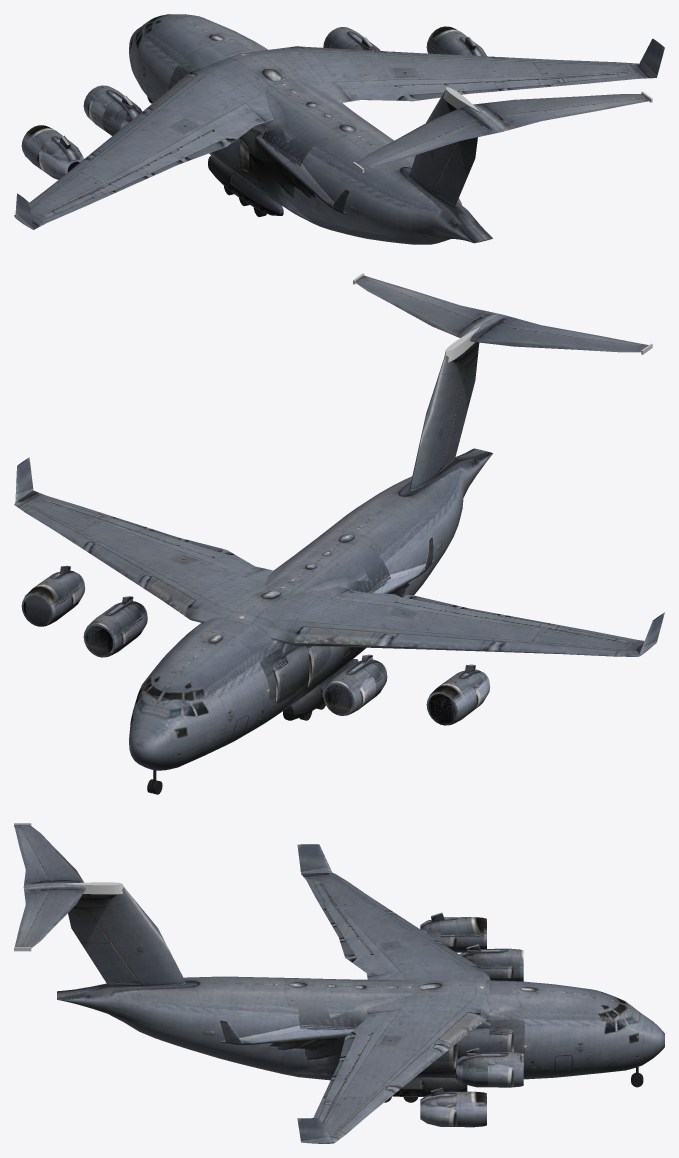
The picture shows the model from 3 angles, top to bottom: view 1: azimuth 30°, elevation 25°; view 2: azimuth 150°, elevation 25°; view 3: azimuth 270°, elevation 25°; orthographic projection. The views are drawn at different scales.
Visible parts, largest first — view 1: Body; view 2: Body; view 3: Body.
Part boxes in pixels (x1,y1,x2,y2): Body: (14,14,664,244); Body: (14,273,664,794); Body: (14,823,664,1143).
Bounding box in the file's own units: 52.73 × 18.06 × 52.87.
2 materials, 1 textured.
